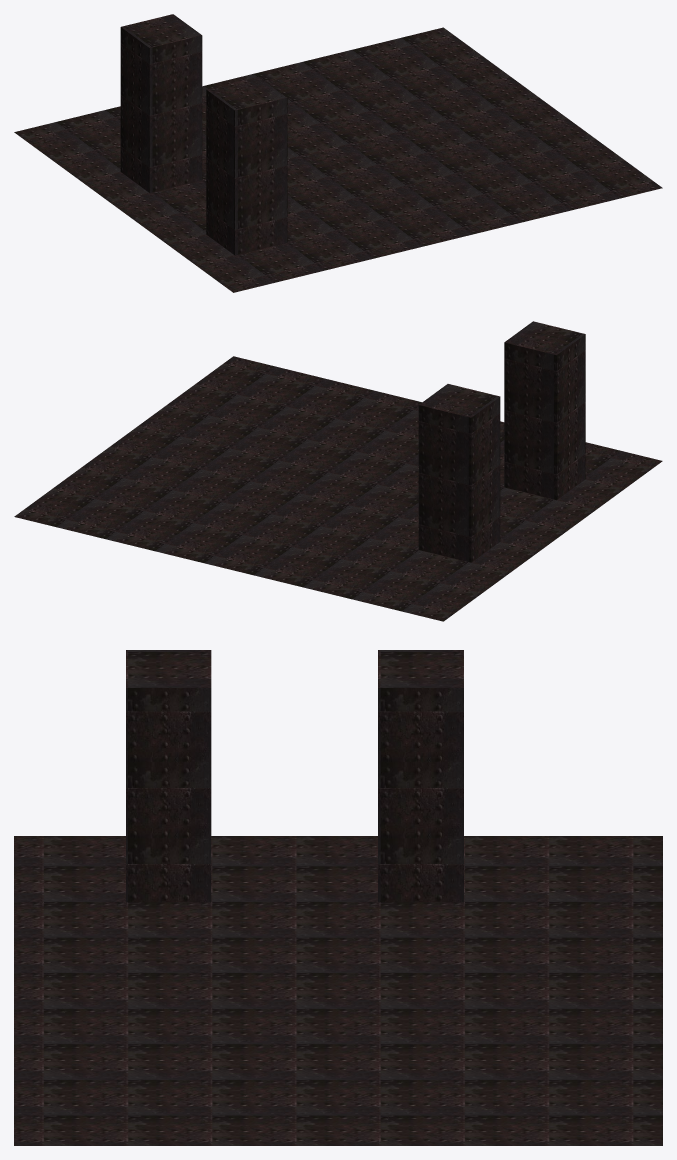
File: techo.FBX
The picture shows the model from 3 angles, top to bottom: view 1: azimuth 30°, elevation 25°; view 2: azimuth 150°, elevation 25°; view 3: azimuth 270°, elevation 25°; orthographic projection. The views are drawn at different scales.
Visible parts, largest first — view 1: techo; view 2: techo; view 3: techo.
Part boxes in pixels (box(x1,y1,x2,y2)): techo: box(14, 14, 662, 292); techo: box(14, 321, 662, 621); techo: box(14, 650, 662, 1145).
Size of the model in its own units: 343 by 111 by 303.
